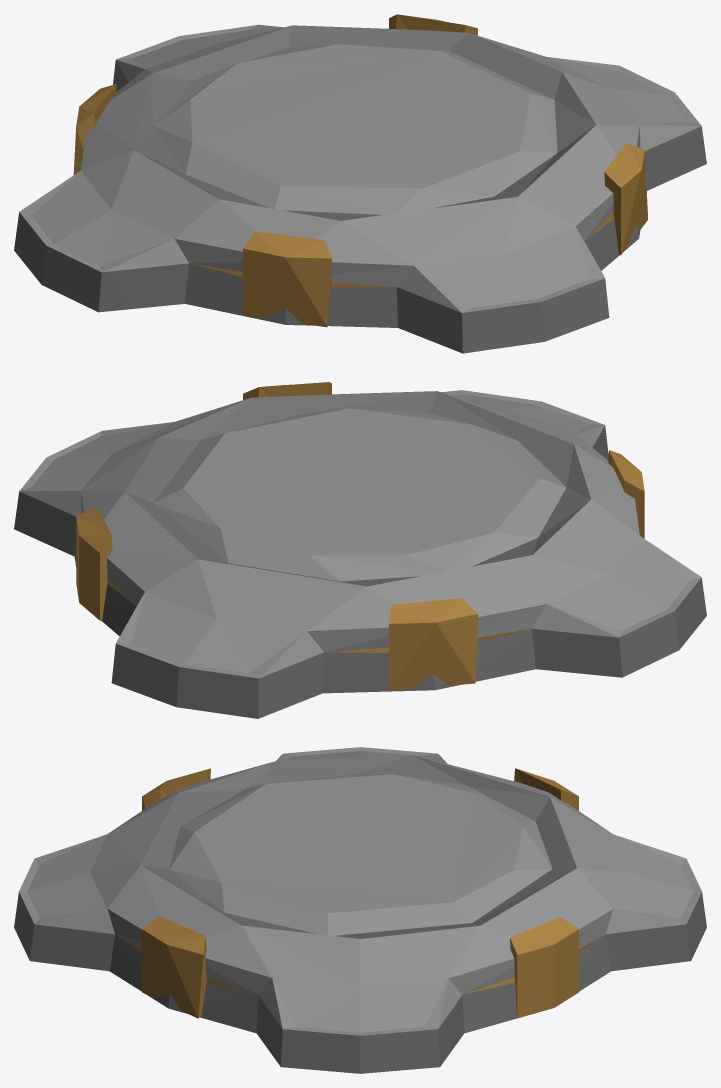
File: kit_base.glb
3 renders of one model, top to bottom at view 1: azimuth 30°, elevation 25°; view 2: azimuth 150°, elevation 25°; view 3: azimuth 270°, elevation 25°, orthographic. The views are drawn at different scales.
Visible parts, largest first — view 1: kit_base; view 2: kit_base; view 3: kit_base.
Boxes of the visible parts, bbox=[...] form: kit_base: bbox=[14, 14, 706, 353]; kit_base: bbox=[14, 382, 706, 718]; kit_base: bbox=[14, 747, 706, 1073].
Bounding box in the file's own units: 2.4 × 0.321 × 2.4.
